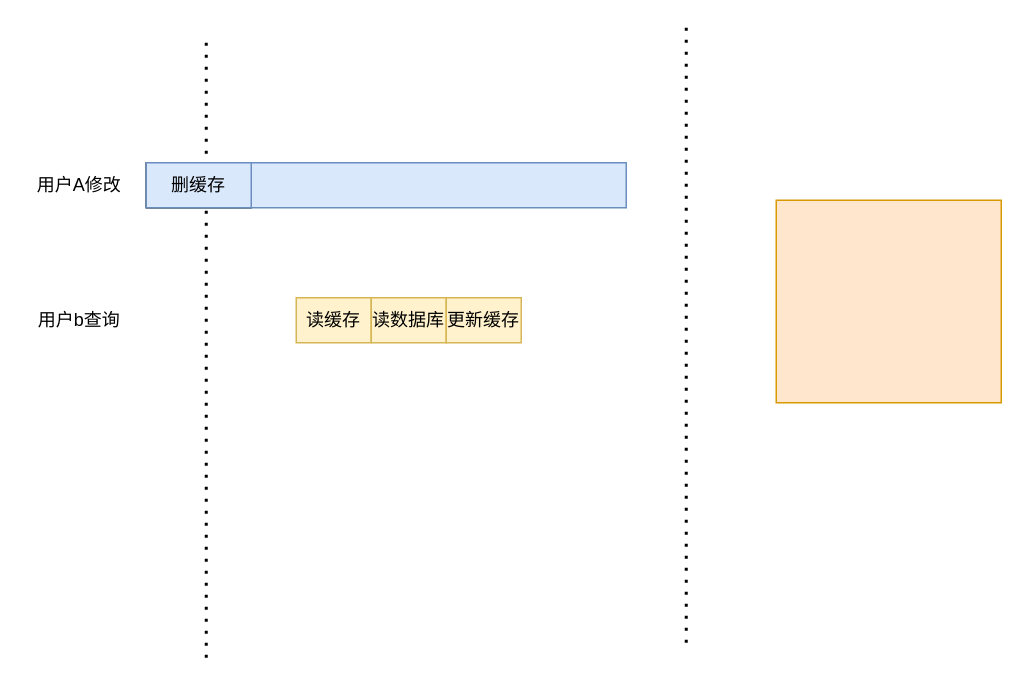
This 1028x686 diagram has some shape labels left out. Each missing label, with the box of its shape:
写数据库: (250, 161, 626, 208)
用户A写数据库的过程中，在写数据库未完成的情况下，用户B查询数据，更新就数据到缓存，导致数据不一致。: (775, 199, 1001, 403)
